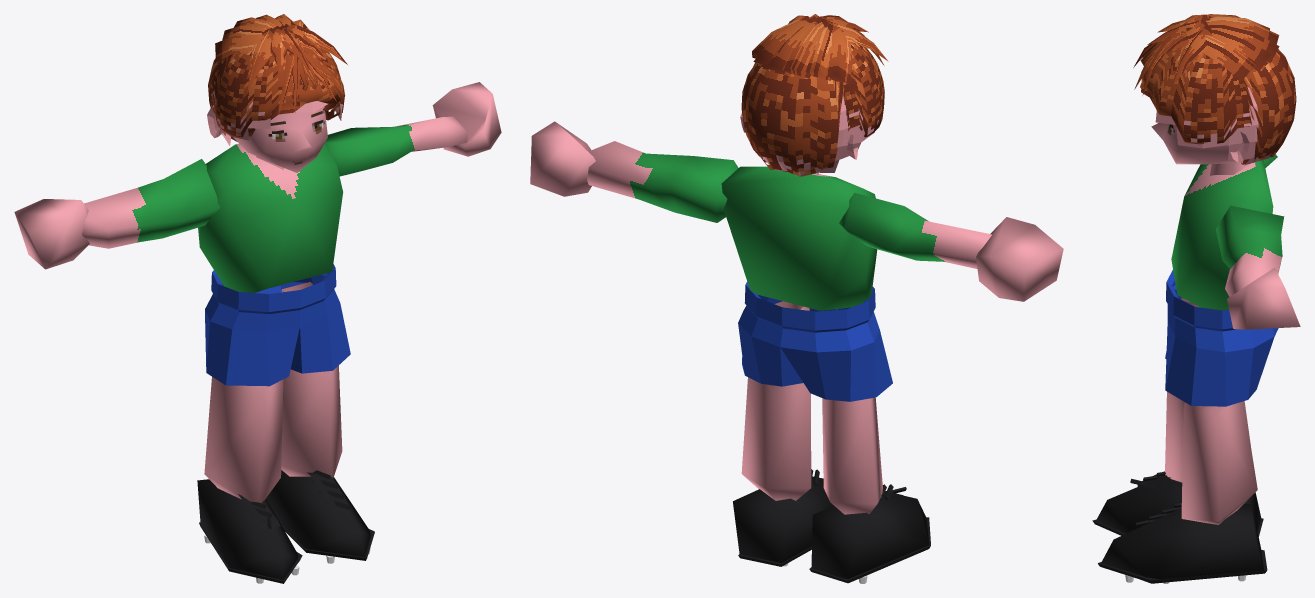
Rendered from 02-jogador-degrade_ruivo.glb.
3 renders of one model, left to right at view 1: azimuth 30°, elevation 25°; view 2: azimuth 150°, elevation 25°; view 3: azimuth 270°, elevation 25°, orthographic. The views are drawn at different scales.
Parts seen in each view (by area): view 1: Camisa_Tronco, Bermuda, Cabelo, Perna.R, Braco.R, Perna.L, Chuteira.R, Chuteira.L, Braco.L, Mao.R, Cabeca, Mao.L (+2 smaller); view 2: Cabelo, Camisa_Tronco, Bermuda, Perna.L, Braco.L, Chuteira.R, Perna.R, Braco.R, Mao.R, Chuteira.L, Mao.L, Couro_Cabeludo (+1 smaller); view 3: Cabelo, Bermuda, Chuteira.L, Camisa_Tronco, Perna.L, Braco.L, Mao.L, Chuteira.R, Couro_Cabeludo, Perna.R, Cabeca, Chuteira_Sola.L (+3 smaller).
Part boxes in pixels (bbox=[...]): Camisa_Tronco: bbox=[198, 143, 343, 292]; Bermuda: bbox=[205, 264, 350, 386]; Cabelo: bbox=[208, 14, 347, 141]; Perna.R: bbox=[204, 377, 283, 503]; Braco.R: bbox=[82, 159, 220, 248]; Perna.L: bbox=[281, 282, 342, 478]; Chuteira.R: bbox=[197, 479, 300, 579]; Chuteira.L: bbox=[266, 470, 370, 557]; Braco.L: bbox=[324, 116, 468, 176]; Mao.R: bbox=[14, 199, 89, 269]; Cabeca: bbox=[233, 106, 327, 172]; Mao.L: bbox=[432, 82, 501, 156]; Cabelo: bbox=[741, 14, 888, 176]; Camisa_Tronco: bbox=[721, 166, 877, 310]; Bermuda: bbox=[738, 281, 892, 401]; Perna.L: bbox=[741, 301, 811, 500]; Braco.L: bbox=[587, 141, 738, 222]; Chuteira.R: bbox=[811, 491, 928, 578]; Perna.R: bbox=[822, 397, 882, 514]; Braco.R: bbox=[839, 192, 991, 268]; Mao.R: bbox=[976, 217, 1063, 301]; Chuteira.L: bbox=[733, 476, 833, 562]; Mao.L: bbox=[530, 121, 595, 196]; Couro_Cabeludo: bbox=[762, 94, 878, 176]; Cabelo: bbox=[1133, 14, 1296, 164]; Bermuda: bbox=[1165, 270, 1278, 406]; Chuteira.L: bbox=[1101, 504, 1263, 583]; Camisa_Tronco: bbox=[1171, 160, 1273, 310]; Perna.L: bbox=[1181, 401, 1257, 524]; Braco.L: bbox=[1215, 205, 1284, 296]; Mao.L: bbox=[1227, 267, 1300, 329]; Chuteira.R: bbox=[1096, 475, 1261, 533]; Couro_Cabeludo: bbox=[1140, 83, 1271, 165]; Perna.R: bbox=[1165, 298, 1250, 482]; Cabeca: bbox=[1151, 123, 1242, 164]; Chuteira_Sola.L: bbox=[1098, 550, 1267, 583].
Size of the model in its own units: 0.4523 by 0.4609 by 0.1617.
Materials: 3 (3 with a texture image).
